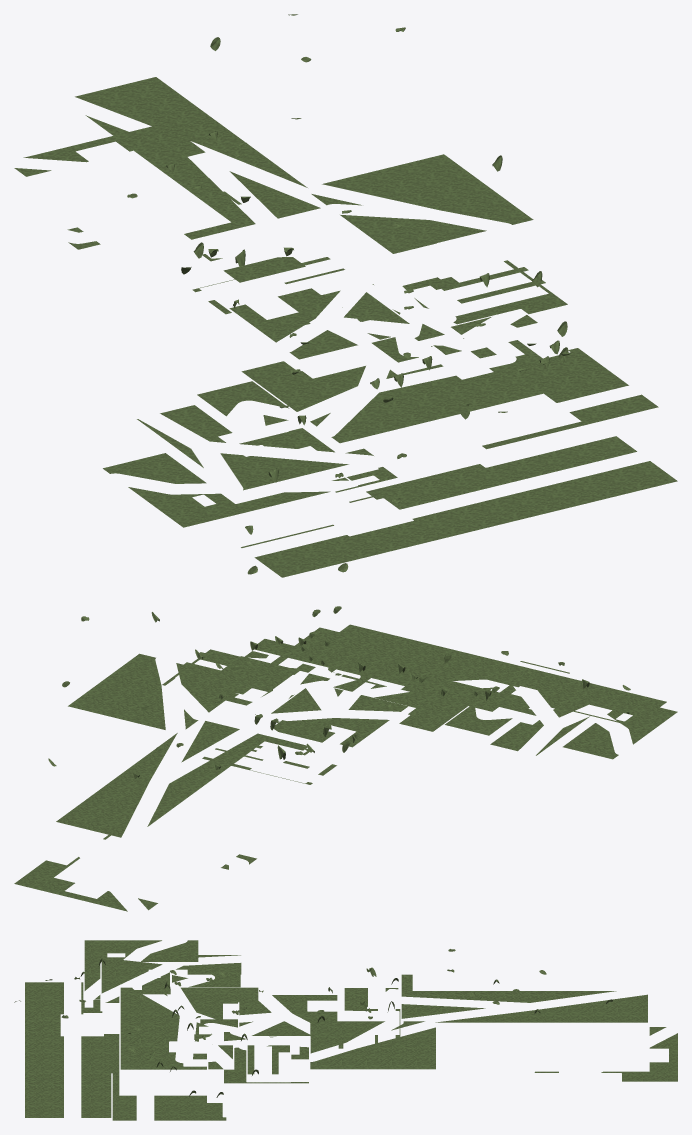
Rendered from SM_QD_GroundDetail_MountainGreen.fbx.
3 renders of one model, top to bottom at view 1: azimuth 30°, elevation 25°; view 2: azimuth 150°, elevation 25°; view 3: azimuth 270°, elevation 25°, orthographic. The views are drawn at different scales.
Visible parts, largest first — view 1: SM_QD_GroundDetail_MountainGreen; view 2: SM_QD_GroundDetail_MountainGreen; view 3: SM_QD_GroundDetail_MountainGreen.
Part boxes in pixels (left/top/right/bottom): SM_QD_GroundDetail_MountainGreen: left=14, top=14, right=677, bottom=577; SM_QD_GroundDetail_MountainGreen: left=14, top=606, right=677, bottom=911; SM_QD_GroundDetail_MountainGreen: left=14, top=940, right=677, bottom=1120.
Bounding box in the file's own units: 79.12 × 127 × 33.92.
Materials: 1 (1 with a texture image).
